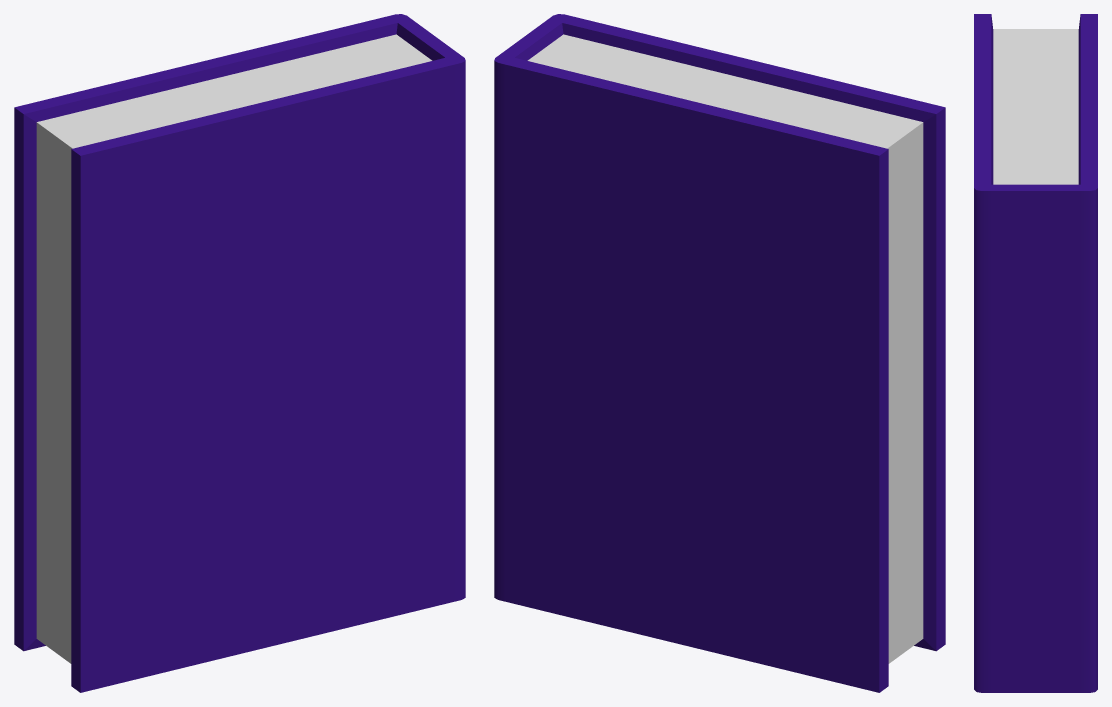
The model's file is book.fbx.
3 views of the same model, side by side, from view 1: azimuth 30°, elevation 25°; view 2: azimuth 150°, elevation 25°; view 3: azimuth 270°, elevation 25° (orthographic). The views are drawn at different scales.
Parts seen in each view (by area): view 1: pCube1; view 2: pCube1; view 3: pCube1.
Boxes of the visible parts, box(x1,y1,x2,y2) form: pCube1: box(14, 14, 465, 692); pCube1: box(494, 14, 945, 692); pCube1: box(974, 14, 1097, 692).
Size of the model in its own units: 0.7568 by 1 by 0.2234.
